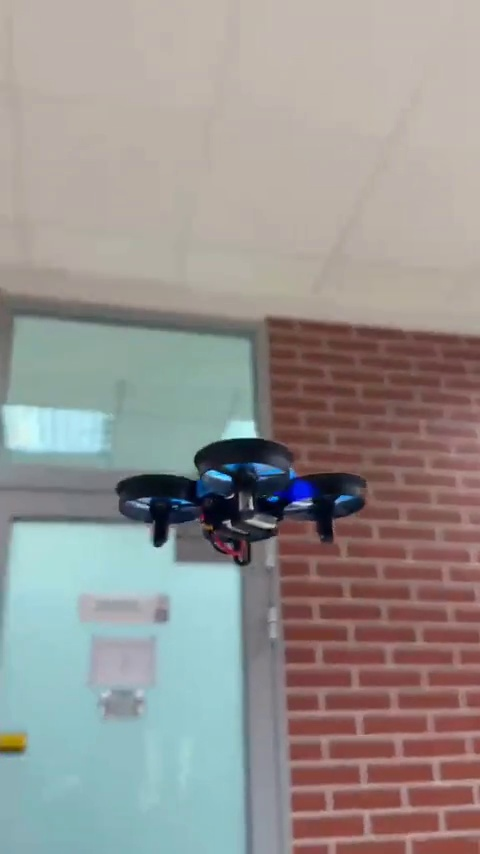drone: (116, 440, 369, 569)
